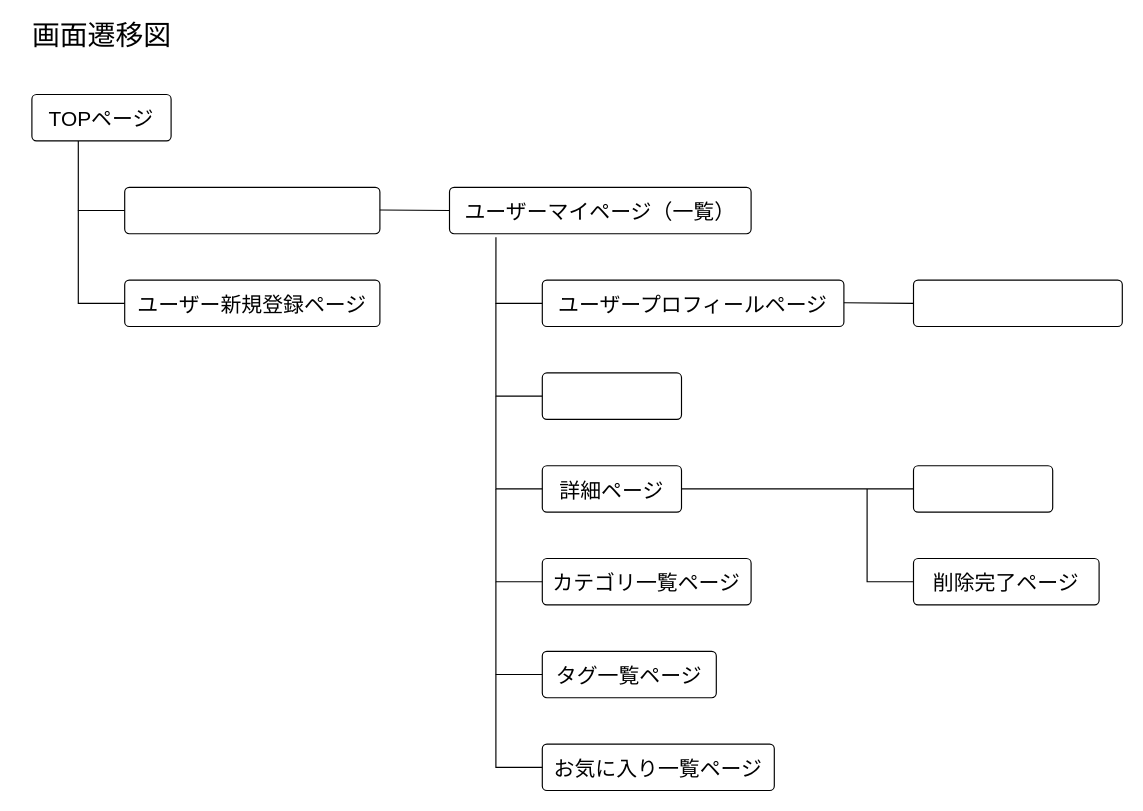
This 1143x811 diagram has some shape labels left out. Each missing label, with the centre of its shape:
"ユーザーログインページ" belongs at pixel 252 210.
"ユーザー編集ページ" belongs at pixel 1017 303.
"投稿ページ" belongs at pixel 611 395.
"編集ページ" belongs at pixel 982 488.
